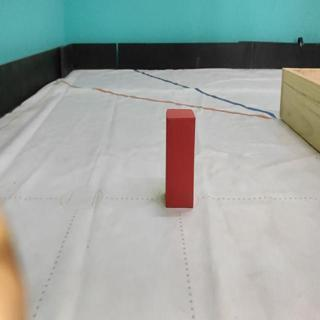redbox: (165, 107, 196, 208)
